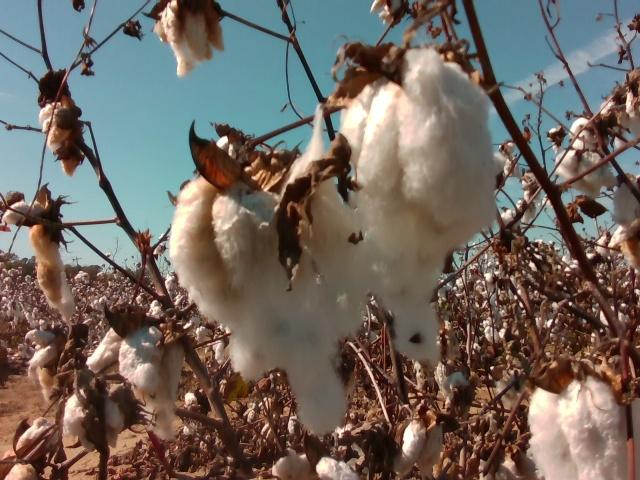cotton_ready: (172, 100, 364, 431), (339, 46, 498, 366), (88, 324, 186, 438), (527, 378, 629, 480), (3, 202, 77, 324), (556, 118, 619, 202), (160, 0, 226, 78), (66, 389, 124, 450), (40, 101, 81, 175), (24, 317, 59, 403), (394, 418, 443, 477), (273, 451, 362, 480), (18, 416, 65, 462), (604, 84, 640, 129), (437, 362, 471, 400), (615, 177, 640, 224)
